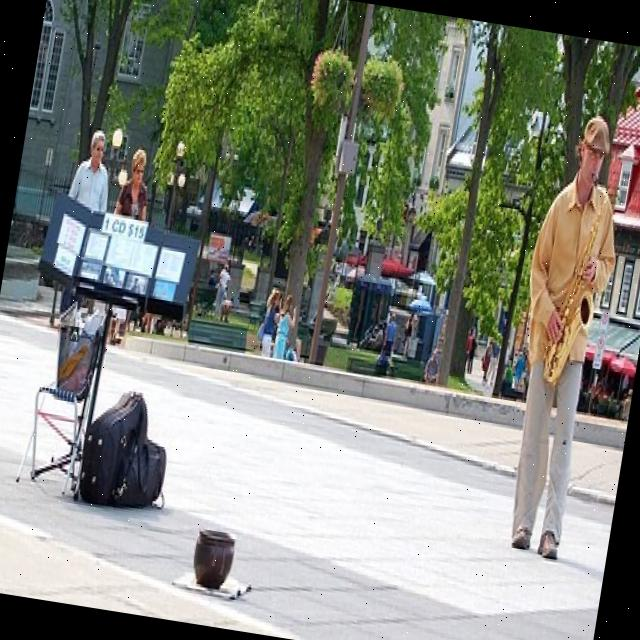saxophone: (538, 168, 616, 390)
